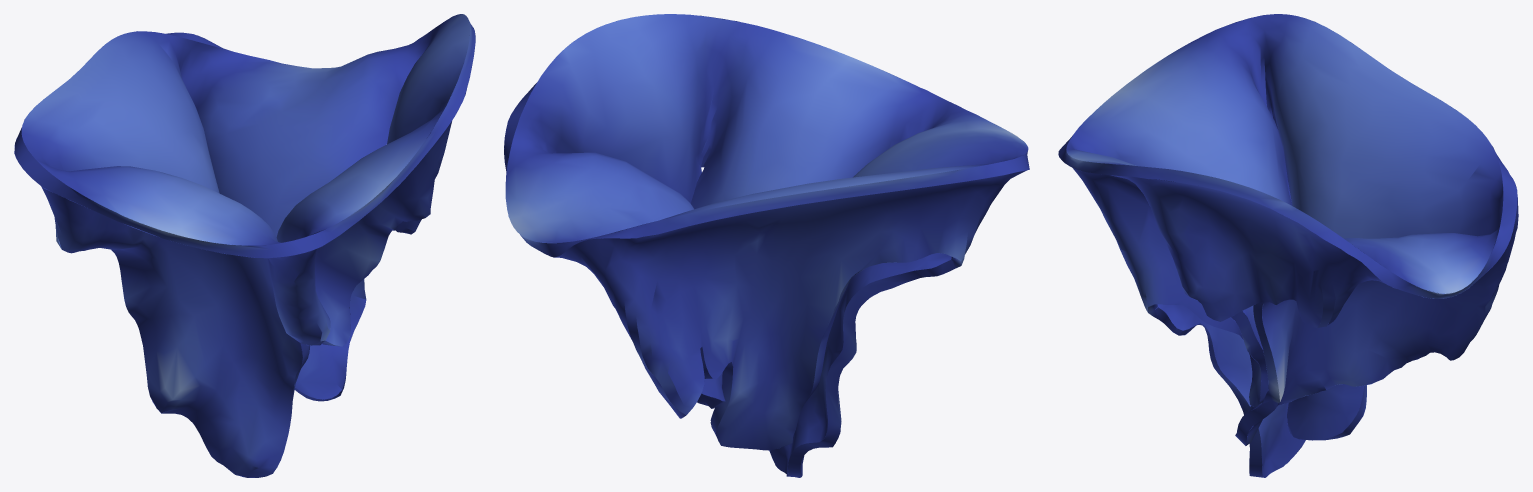
3 views of the same model, side by side, from view 1: azimuth 30°, elevation 25°; view 2: azimuth 150°, elevation 25°; view 3: azimuth 270°, elevation 25° (orthographic). The views are drawn at different scales.
Parts seen in each view (by area): view 1: OCS14_maxS_10; view 2: OCS14_maxS_10; view 3: OCS14_maxS_10.
Boxes of the visible parts, left/top/right/bottom form: OCS14_maxS_10: left=14, top=14, right=475, bottom=477; OCS14_maxS_10: left=504, top=14, right=1029, bottom=477; OCS14_maxS_10: left=1058, top=14, right=1518, bottom=477.
Bounding box in the file's own units: 1.45 × 1.19 × 1.29.
